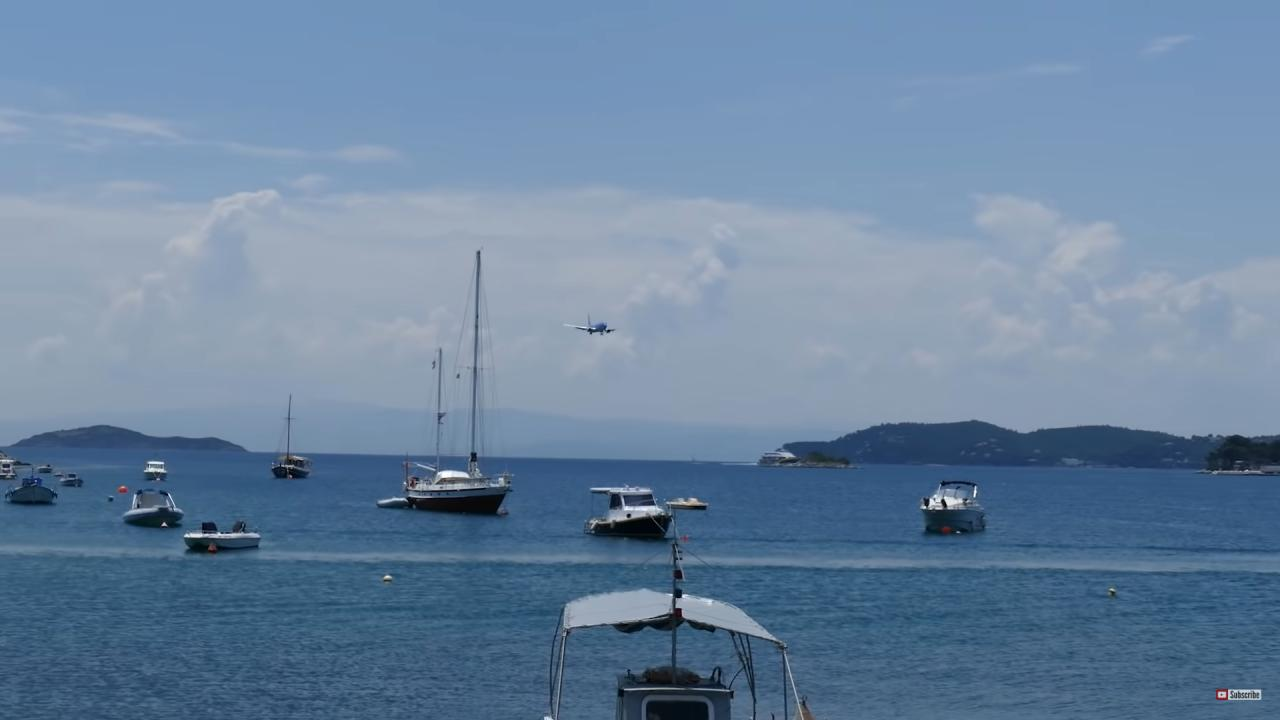Airplane: (554, 305, 633, 344)
